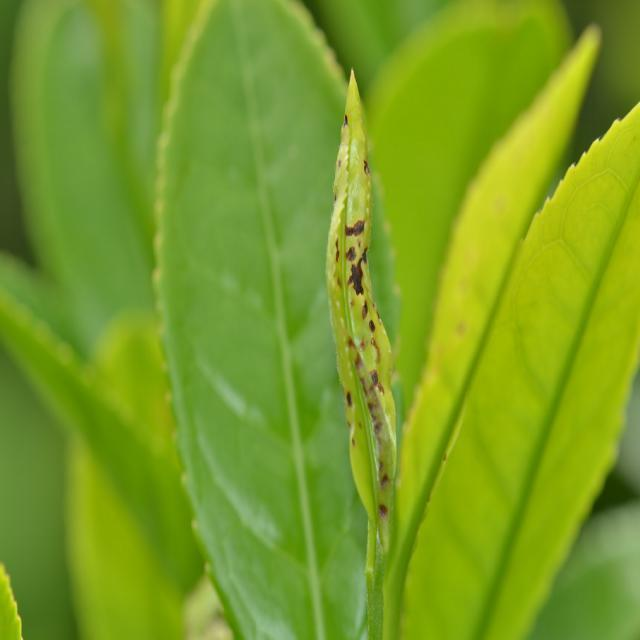Tea red scab: (328, 87, 405, 532)
